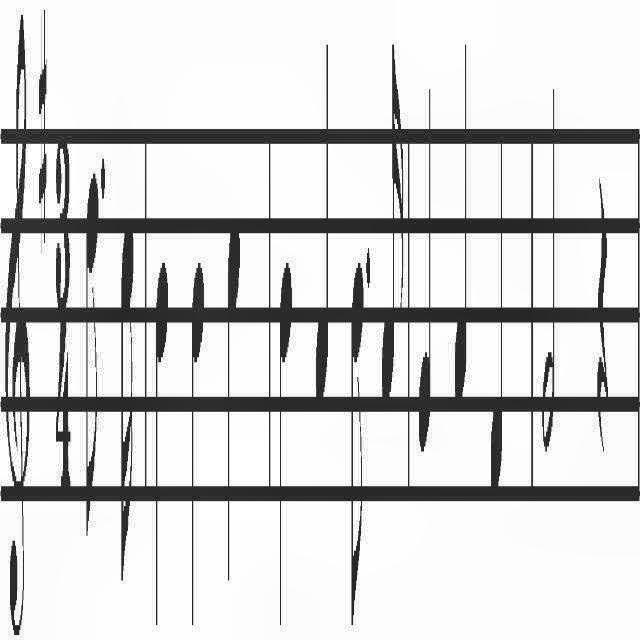Bass-clef: (5, 0, 28, 632)
Diez: (36, 20, 48, 252)
Eighth-note: (348, 253, 368, 632), (84, 168, 100, 532)
Half-note: (542, 70, 556, 450)
Quarter-note: (415, 58, 433, 466), (312, 16, 330, 417), (452, 0, 468, 412), (153, 236, 169, 632), (488, 109, 504, 499), (190, 246, 206, 632), (277, 257, 293, 631), (226, 197, 240, 607)
Quarter-rest: (595, 174, 611, 450)
Sixteenth-note: (380, 15, 404, 425), (120, 208, 136, 572)
